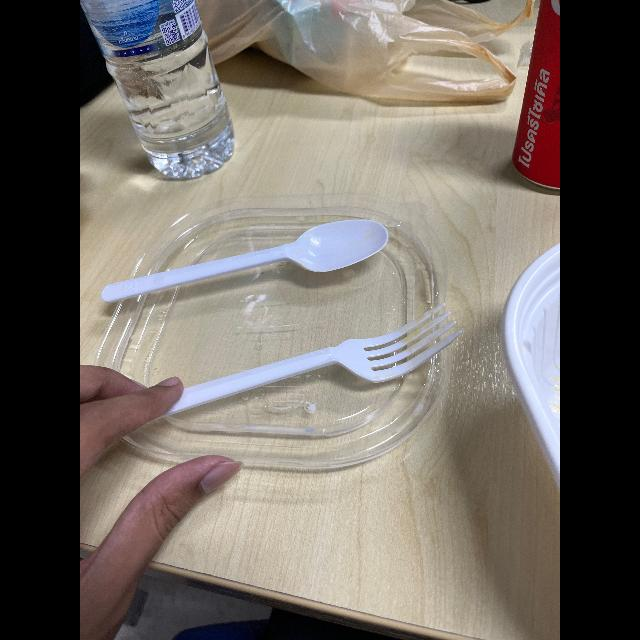plastic_cultery: (131, 288, 483, 442), (93, 191, 407, 325)
